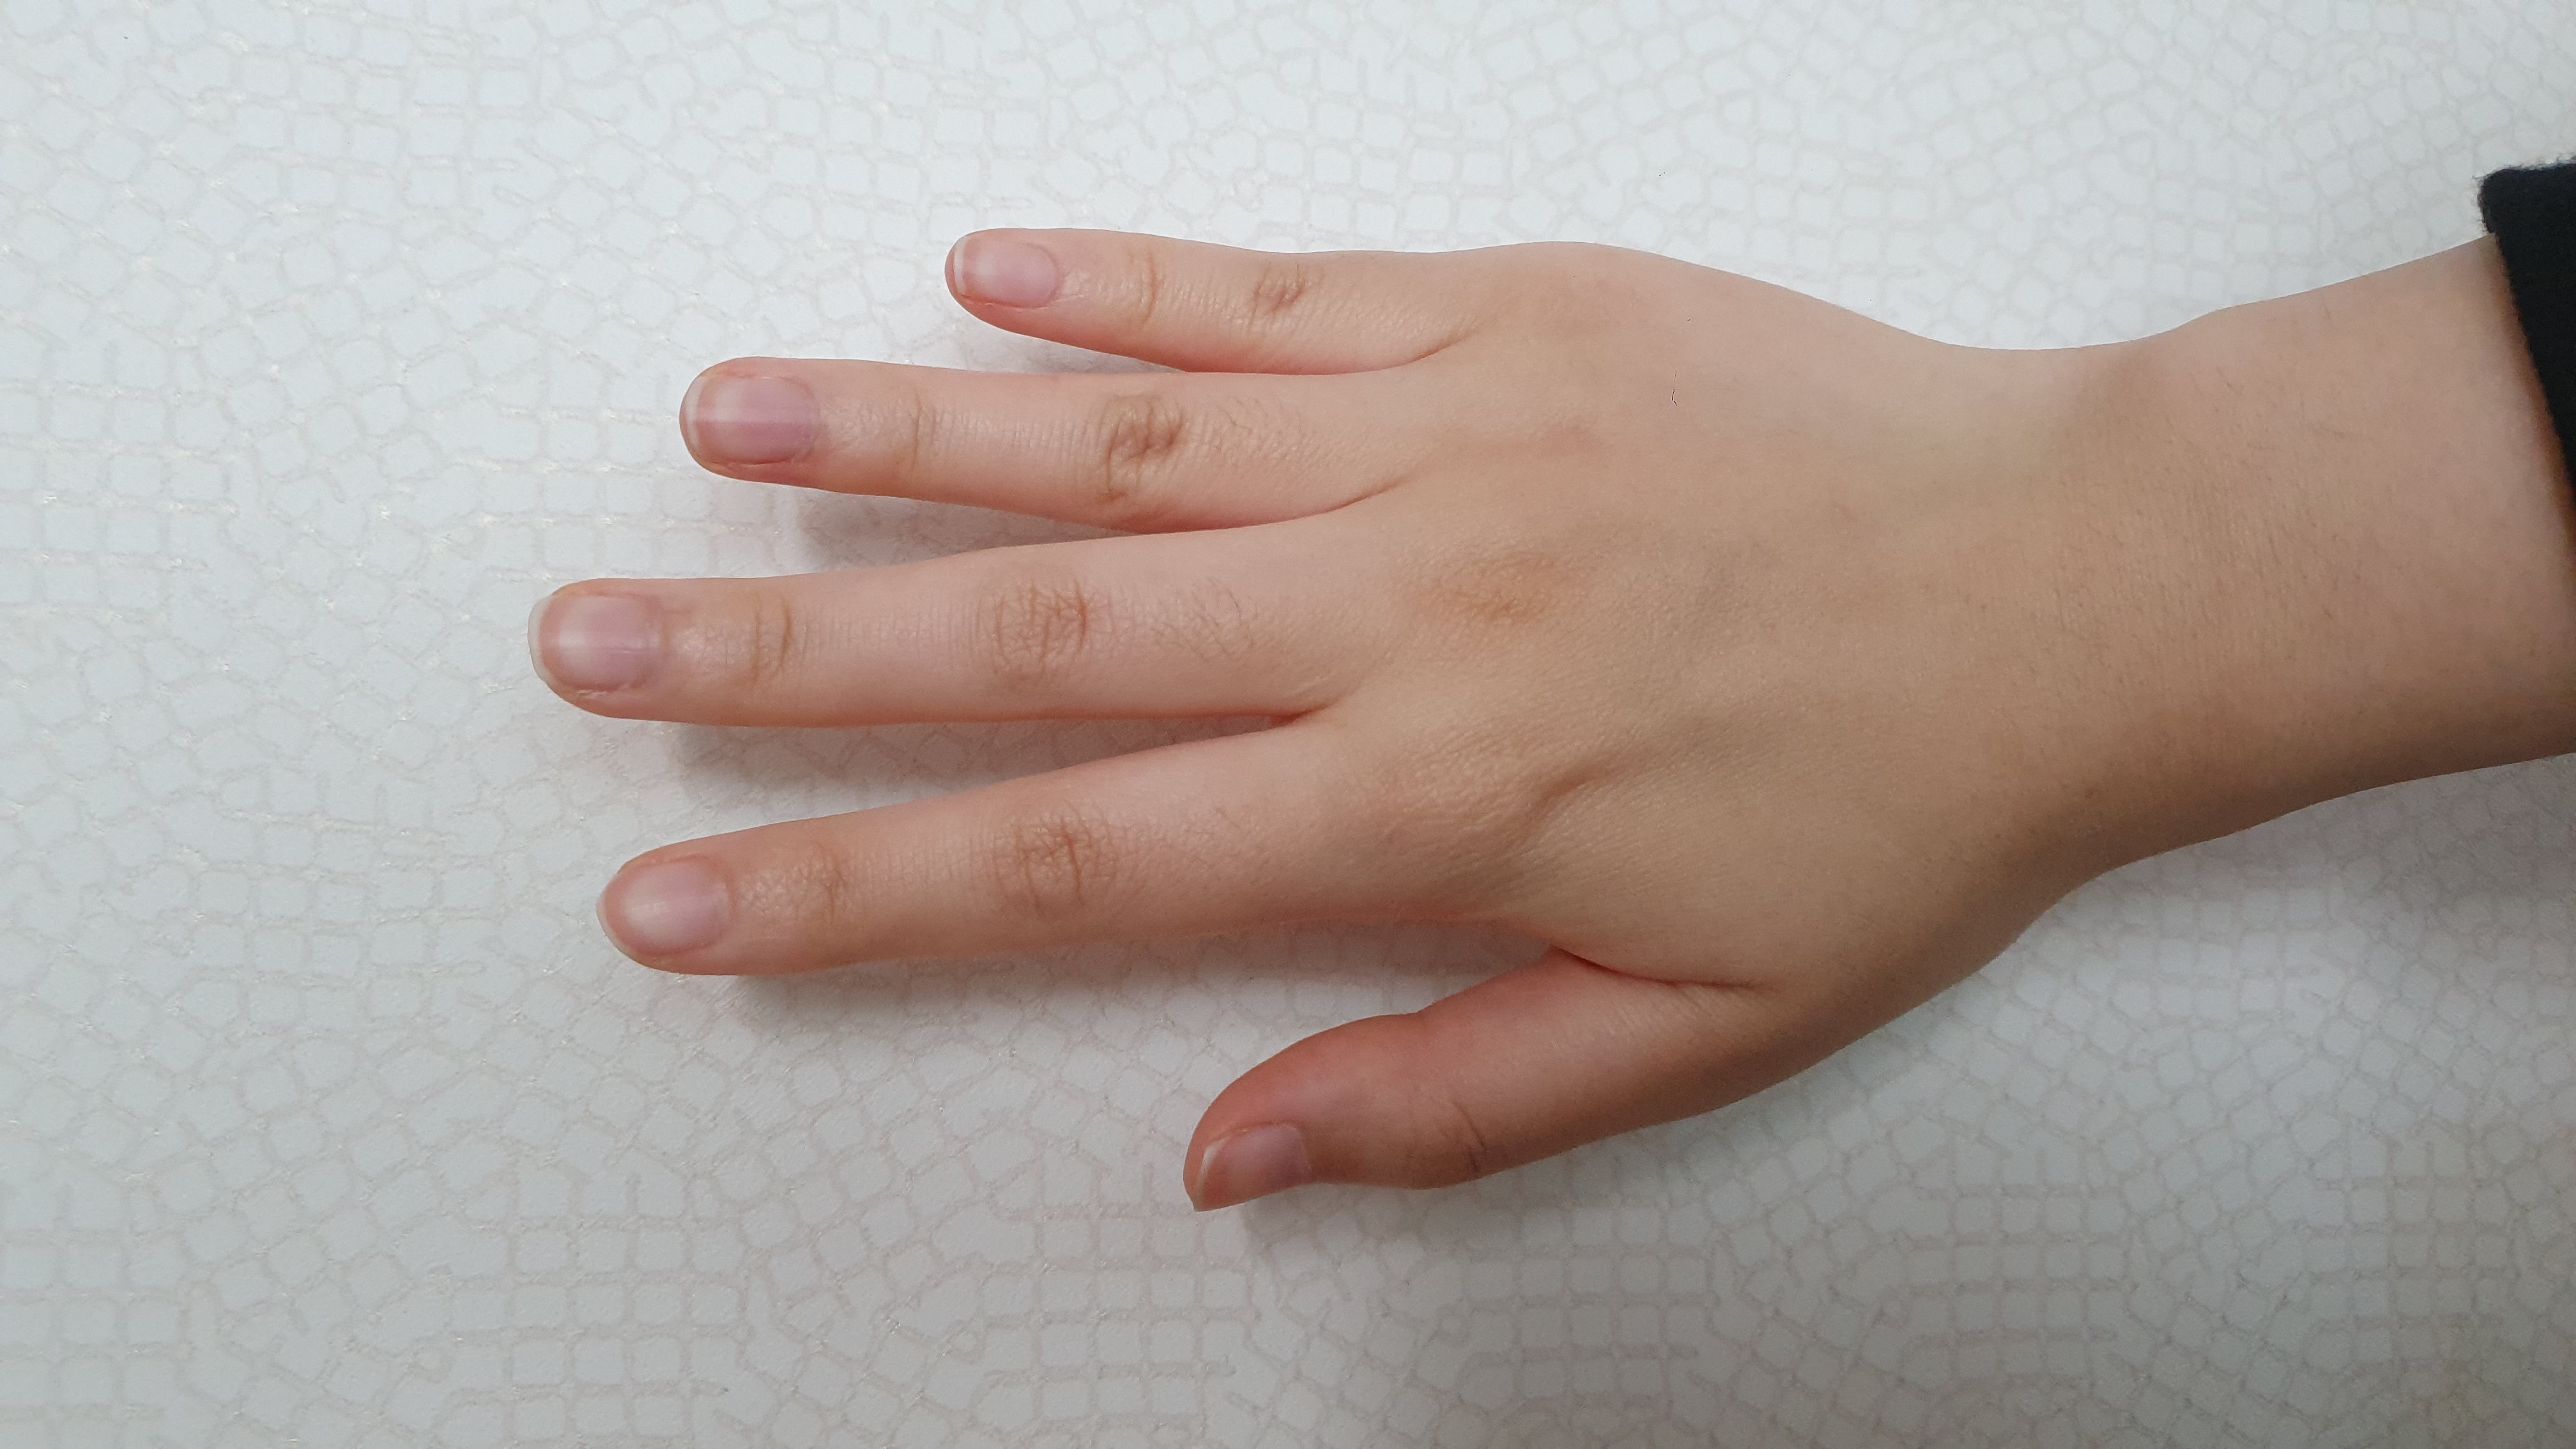backhand: (1359, 260, 2141, 964)
hand: (517, 205, 2144, 1240)
index finger: (584, 711, 1371, 1000)
middle finger: (541, 536, 1311, 745)
pinky: (939, 202, 1451, 366)
ring finger: (669, 352, 1378, 561)
thumb: (1185, 970, 1670, 1240)
